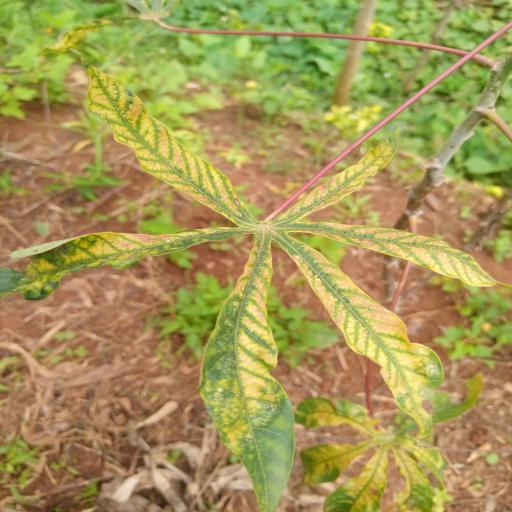Cassava_Mosaic: (5, 58, 491, 512)
